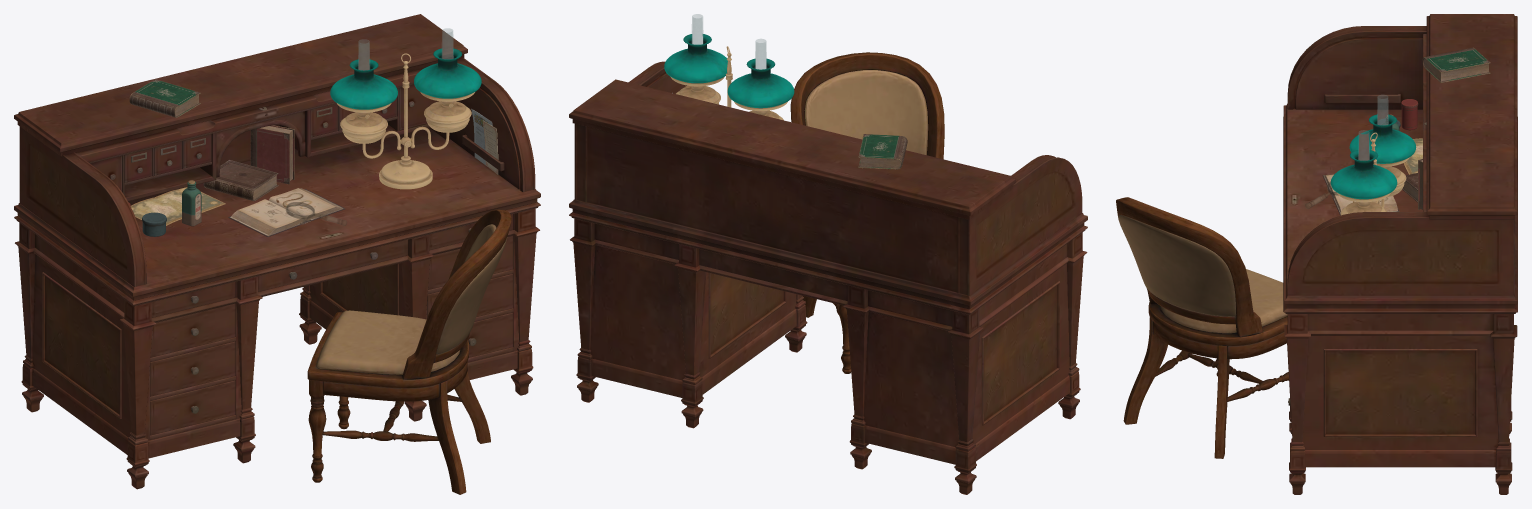
The model's file is desk.glb.
3 views of the same model, side by side, from view 1: azimuth 30°, elevation 25°; view 2: azimuth 150°, elevation 25°; view 3: azimuth 270°, elevation 25° (orthographic).
Visible parts, largest first — view 1: Table, Chair, Lamp, Open_book, Book_3, Book_1, Book_2, Note_3, Bottle; view 2: Table, Chair, Lamp, Book_2; view 3: Table, Chair, Lamp, Book_2, Open_book, Jar_1.
Part boxes in pixels (box(x1,y1,x2,y2)): Table: box(14, 14, 540, 489); Chair: box(307, 209, 511, 494); Lamp: box(330, 28, 481, 189); Open_book: box(228, 188, 345, 236); Book_3: box(250, 125, 294, 184); Book_1: box(203, 160, 278, 201); Book_2: box(129, 79, 200, 117); Note_3: box(130, 187, 225, 225); Bottle: box(182, 180, 201, 226); Table: box(569, 61, 1087, 494); Chair: box(790, 52, 944, 373); Lamp: box(664, 14, 794, 120); Book_2: box(858, 134, 907, 169); Table: box(1283, 14, 1517, 494); Chair: box(1116, 197, 1288, 458); Lamp: box(1330, 95, 1416, 215); Book_2: box(1422, 47, 1490, 82); Open_book: box(1322, 174, 1399, 215); Jar_1: box(1401, 99, 1418, 130).
Bounding box in the file's own units: 1.62 × 1.32 × 1.41.
15 materials, 15 textured.
